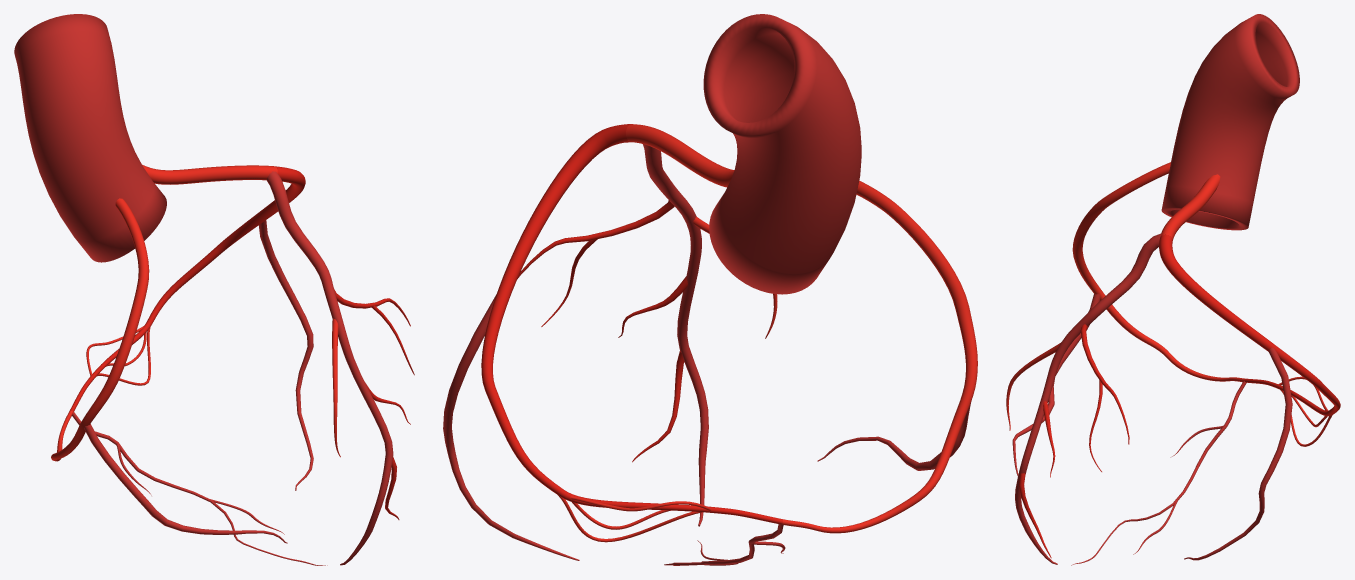
Rendered from newCoHeart.glb.
3 views of the same model, side by side, from view 1: azimuth 30°, elevation 25°; view 2: azimuth 150°, elevation 25°; view 3: azimuth 270°, elevation 25° (orthographic). The views are drawn at different scales.
Parts seen in each view (by area): view 1: aorta_new, RbigA, RCA, LCx, LM, Rbig2, Lbig, middleTiny2, Rsmall3, Rsmall2; view 2: aorta_new, LCx, RCA, RbigA, Rbig2, LM, Rsmall2, Lbig, middleTiny2, Rsmall2.002; view 3: aorta_new, RbigA, LCx, RCA, Rbig2, middleTiny2, LM, Rsmall2, Lbig, Rsmall3.
Boxes of the visible parts, bbox=[...] form: aorta_new: bbox=[14, 14, 166, 262]; RbigA: bbox=[266, 171, 393, 565]; RCA: bbox=[51, 198, 149, 461]; LCx: bbox=[70, 166, 305, 411]; LM: bbox=[142, 164, 277, 184]; Rbig2: bbox=[258, 220, 313, 490]; Lbig: bbox=[84, 424, 287, 543]; middleTiny2: bbox=[72, 412, 327, 565]; Rsmall3: bbox=[332, 318, 340, 457]; Rsmall2: bbox=[334, 289, 414, 375]; aorta_new: bbox=[703, 14, 861, 294]; LCx: bbox=[481, 124, 782, 524]; RCA: bbox=[782, 180, 977, 533]; RbigA: bbox=[643, 144, 708, 526]; Rbig2: bbox=[443, 294, 579, 560]; LM: bbox=[626, 124, 734, 187]; Rsmall2: bbox=[517, 200, 674, 326]; Lbig: bbox=[817, 401, 971, 470]; middleTiny2: bbox=[664, 524, 785, 565]; Rsmall2.002: bbox=[632, 351, 684, 462]; aorta_new: bbox=[1161, 14, 1299, 230]; RbigA: bbox=[1015, 233, 1161, 564]; LCx: bbox=[1159, 235, 1340, 416]; RCA: bbox=[1072, 162, 1244, 382]; Rbig2: bbox=[1184, 347, 1292, 560]; middleTiny2: bbox=[1071, 381, 1246, 565]; LM: bbox=[1160, 174, 1220, 239]; Rsmall2: bbox=[1080, 324, 1129, 471]; Lbig: bbox=[1012, 294, 1100, 475]; Rsmall3: bbox=[1006, 343, 1060, 430].
Bounding box in the file's own units: 1.98 × 2.85 × 1.81.
